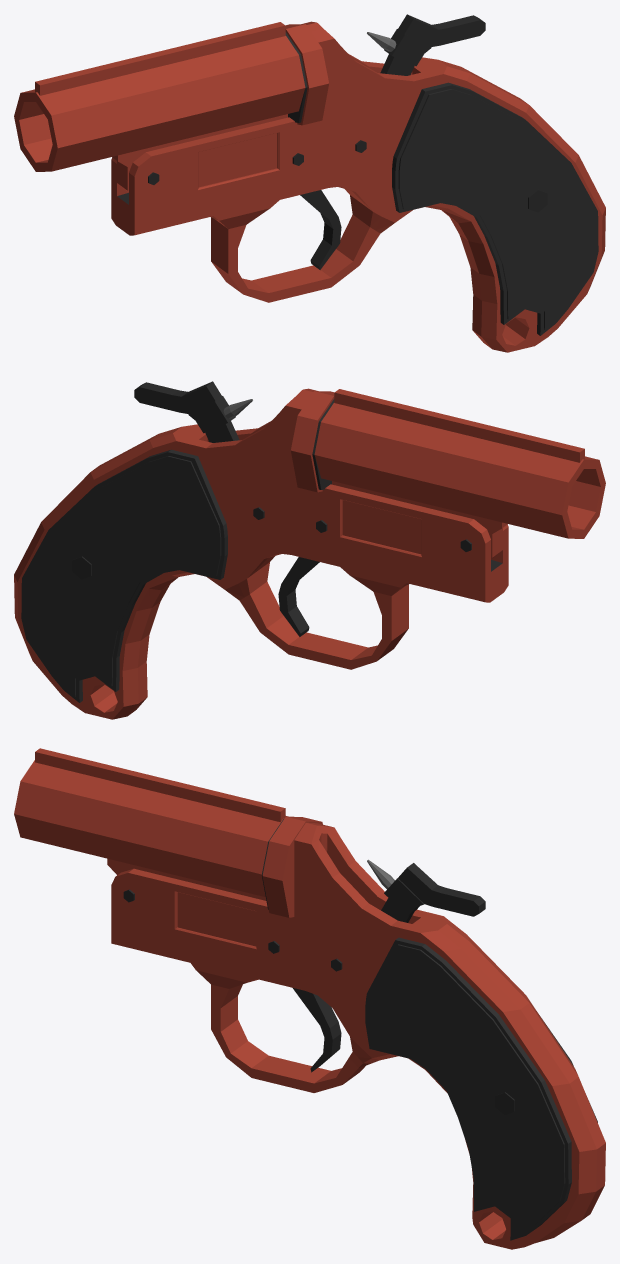
File: low_poly_flare_gun.glb
3 renders of one model, top to bottom at view 1: azimuth 30°, elevation 25°; view 2: azimuth 150°, elevation 25°; view 3: azimuth 330°, elevation 25°, orthographic.
Visible parts, largest first — view 1: Cube, Cube.004, Cube.002, Cube.001; view 2: Cube, Cube.004, Cube.002, Cube.001; view 3: Cube, Cube.004, Cube.002, Cube.001.
Boxes of the visible parts, x1,y1,x2,y2 form: Cube: (111,21,605,352); Cube.004: (14,22,305,192); Cube.002: (367,14,485,75); Cube.001: (300,190,341,269); Cube: (14,388,508,719); Cube.004: (314,389,605,559); Cube.002: (134,381,252,442); Cube.001: (278,557,319,636); Cube: (111,816,605,1249); Cube.004: (14,748,288,900); Cube.002: (367,859,485,922); Cube.001: (293,988,341,1072).
Size of the model in its own units: 9.65 by 6.07 by 1.38.
